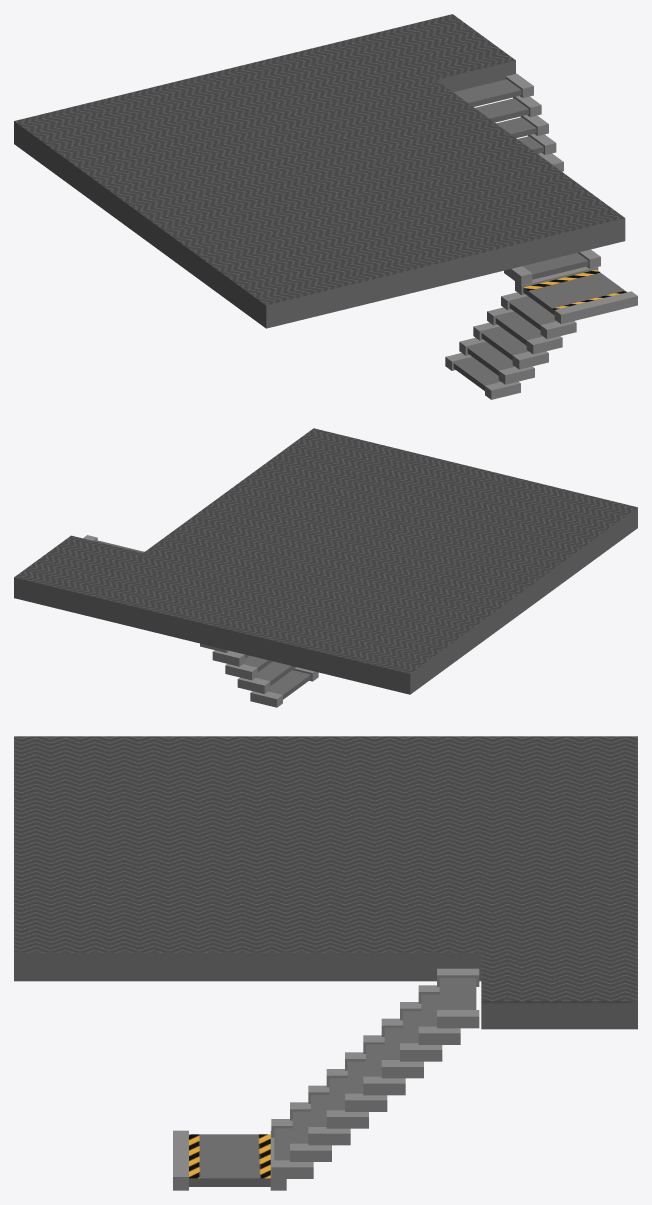
The picture shows the model from 3 angles, top to bottom: view 1: azimuth 30°, elevation 25°; view 2: azimuth 150°, elevation 25°; view 3: azimuth 270°, elevation 25°; orthographic projection. The views are drawn at different scales.
Parts seen in each view (by area): view 1: SM_B1_S_F; view 2: SM_B1_S_F; view 3: SM_B1_S_F.
Boxes of the visible parts, bbox=[...] form: SM_B1_S_F: bbox=[14, 14, 637, 399]; SM_B1_S_F: bbox=[14, 428, 637, 707]; SM_B1_S_F: bbox=[14, 736, 637, 1190].
Size of the model in its own units: 800 by 797 by 369.
